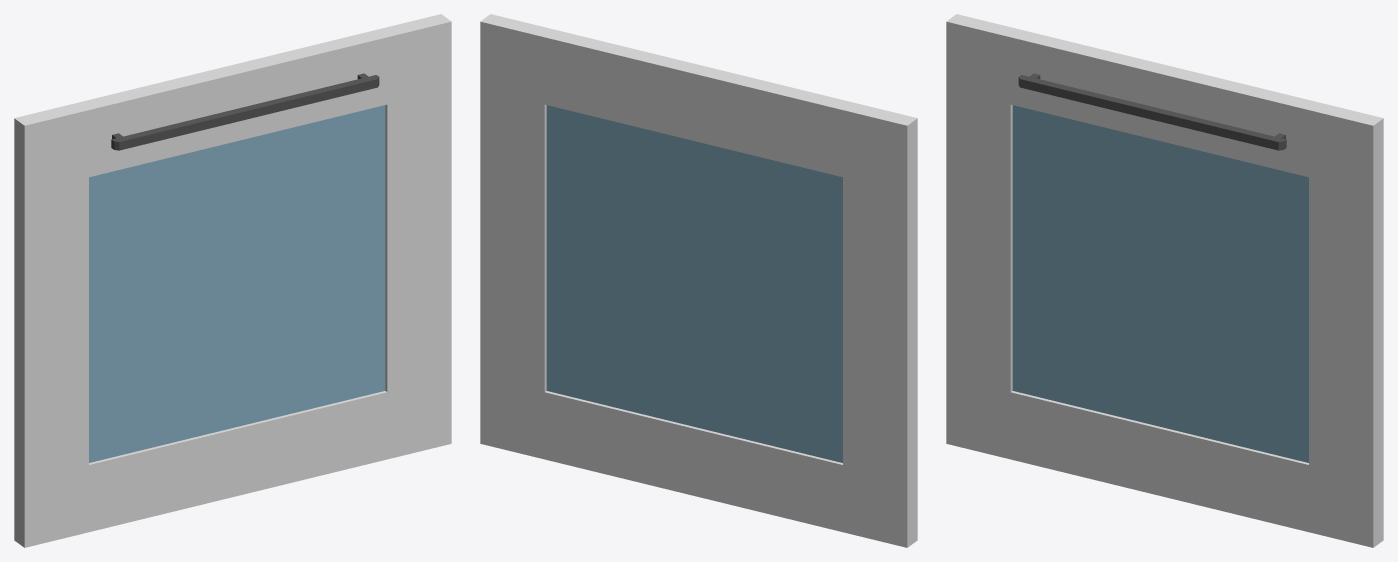
Rendered from Oven4_02.fbx.
3 views of the same model, side by side, from view 1: azimuth 30°, elevation 25°; view 2: azimuth 150°, elevation 25°; view 3: azimuth 330°, elevation 25° (orthographic).
Parts seen in each view (by area): view 1: Oven4_02; view 2: Oven4_02; view 3: Oven4_02.
Part boxes in pixels (x1,y1,x2,y2): Oven4_02: (14, 14, 451, 547); Oven4_02: (480, 14, 917, 547); Oven4_02: (946, 14, 1383, 547).
Size of the model in its own units: 59.2 by 55.91 by 5.01.
